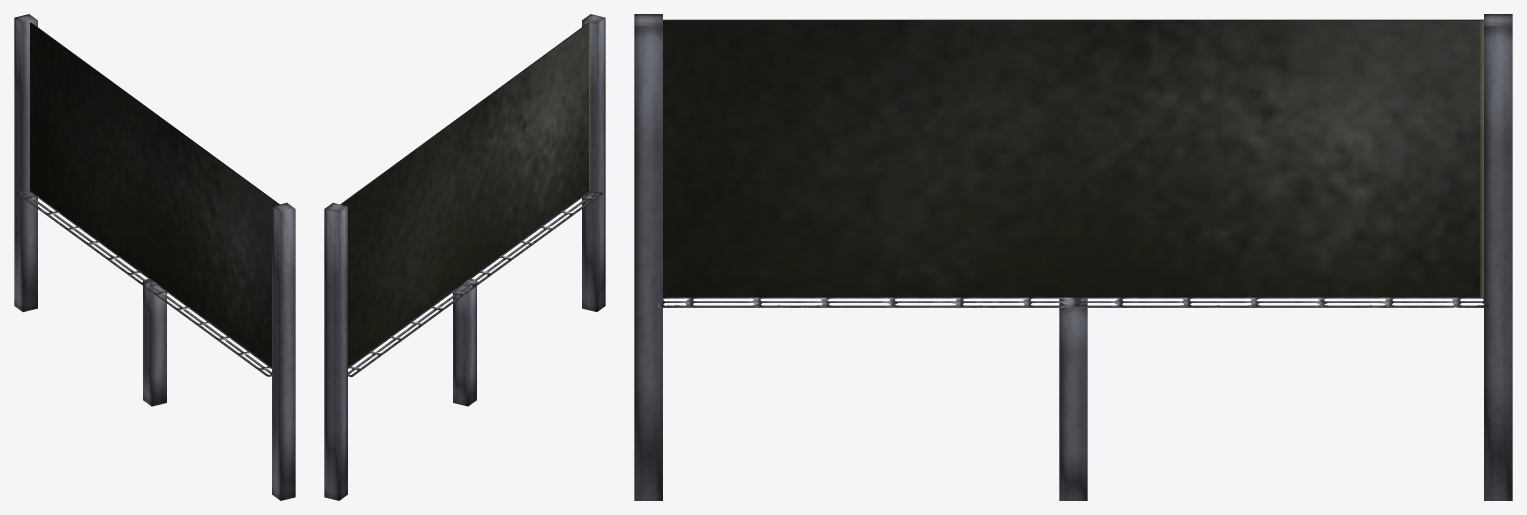
File: billboard3.fbx
3 renders of one model, left to right at view 1: azimuth 30°, elevation 25°; view 2: azimuth 150°, elevation 25°; view 3: azimuth 270°, elevation 25°, orthographic. The views are drawn at different scales.
Parts seen in each view (by area): view 1: billboard3; view 2: billboard3; view 3: billboard3.
Part boxes in pixels (left/top/right/bottom): billboard3: left=14, top=14, right=295, bottom=500; billboard3: left=324, top=14, right=605, bottom=500; billboard3: left=634, top=14, right=1512, bottom=500.
Bounding box in the file's own units: 60 × 1034 × 617.
1 material, 1 textured.
